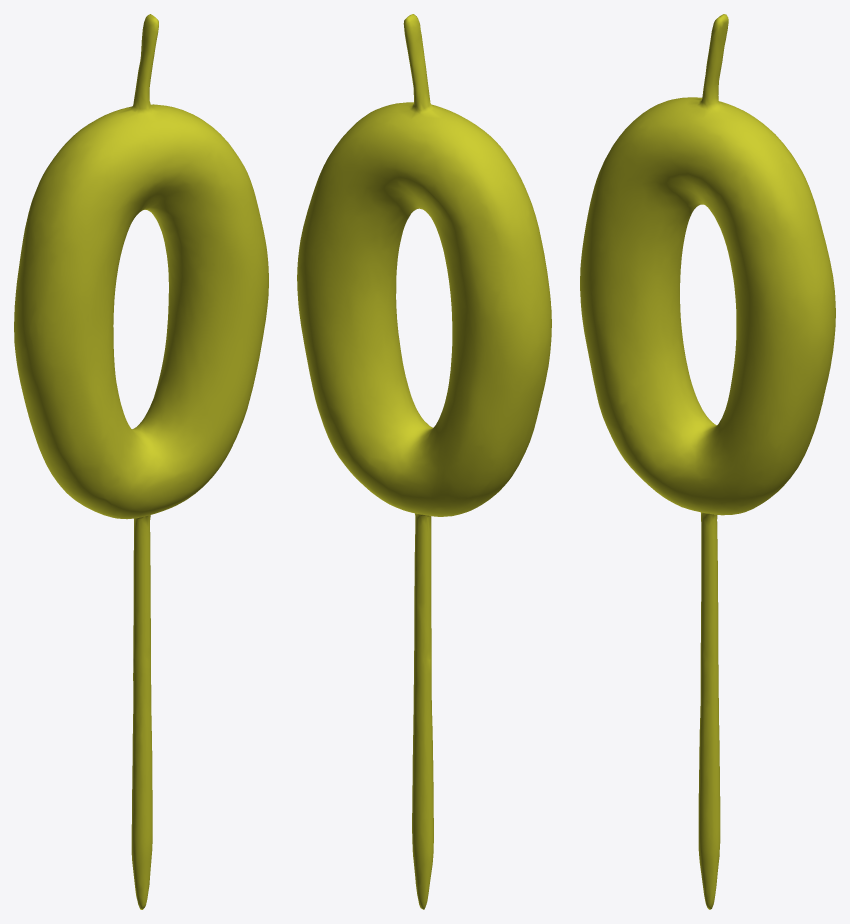
The model's file is number0.glb.
3 renders of one model, left to right at view 1: azimuth 30°, elevation 25°; view 2: azimuth 150°, elevation 25°; view 3: azimuth 330°, elevation 25°, orthographic.
Parts seen in each view (by area): view 1: Mesh1.0; view 2: Mesh1.0; view 3: Mesh1.0.
Part boxes in pixels (x1,y1,x2,y2): Mesh1.0: [14, 14, 268, 909]; Mesh1.0: [297, 14, 551, 909]; Mesh1.0: [580, 14, 835, 909].
Size of the model in its own units: 0.3773 by 1.33 by 0.1337.
